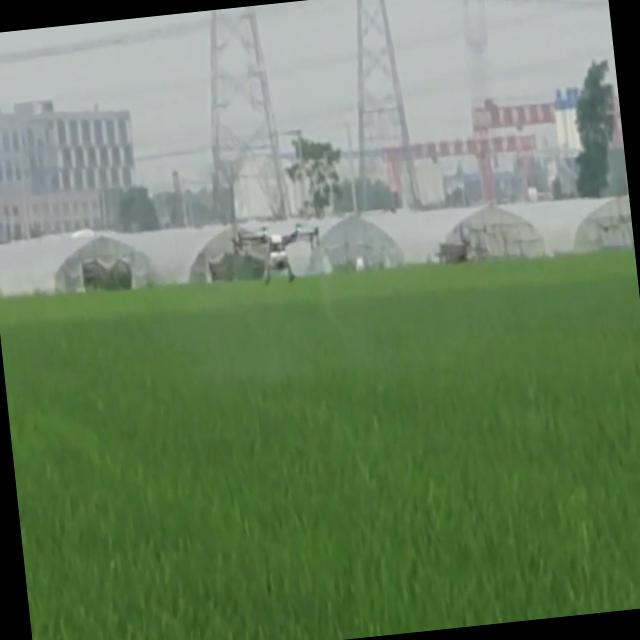drone: (227, 214, 326, 287)
